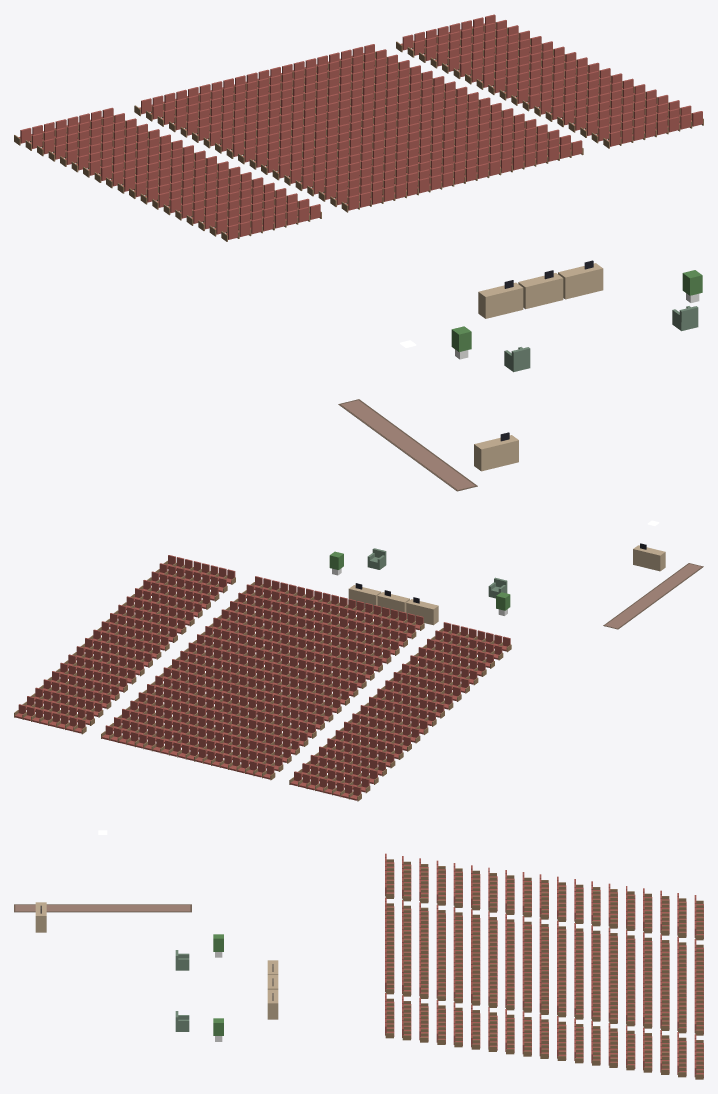
Rendered from fine-s0.glb.
3 renders of one model, top to bottom at view 1: azimuth 30°, elevation 25°; view 2: azimuth 150°, elevation 25°; view 3: azimuth 270°, elevation 25°, orthographic. The views are drawn at different scales.
Parts seen in each view (by area): view 1: auditorium-seats, soft-s0, shop-counter.001, shop-counter.000, shop-counter.002, shop-counter.003; view 2: auditorium-seats, soft-s0, shop-counter.000, shop-counter.001, shop-counter.003, shop-counter.002; view 3: auditorium-seats, soft-s0.
Part boxes in pixels (bbox=[...]): auditorium-seats: bbox=[14, 14, 703, 241]; soft-s0: bbox=[338, 399, 477, 491]; shop-counter.001: bbox=[478, 280, 523, 318]; shop-counter.000: bbox=[474, 432, 518, 471]; shop-counter.002: bbox=[518, 270, 563, 309]; shop-counter.003: bbox=[558, 260, 603, 299]; auditorium-seats: bbox=[14, 555, 511, 801]; soft-s0: bbox=[603, 563, 703, 629]; shop-counter.000: bbox=[633, 543, 665, 571]; shop-counter.001: bbox=[406, 597, 438, 625]; shop-counter.003: bbox=[348, 583, 381, 610]; shop-counter.002: bbox=[377, 590, 409, 616]; auditorium-seats: bbox=[385, 853, 703, 1079]; soft-s0: bbox=[14, 904, 191, 912].
Size of the model in its own units: 23.6 by 4.63 by 38.09.
